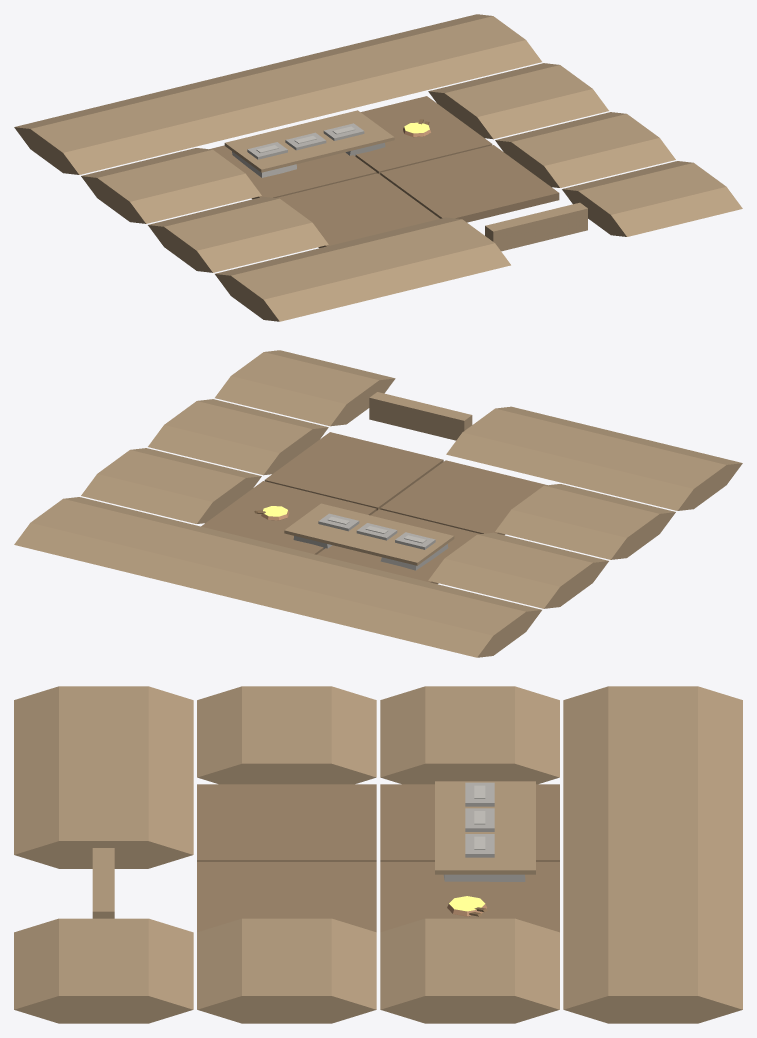
Rendered from building_casting_bench_foundation.glb.
The picture shows the model from 3 angles, top to bottom: view 1: azimuth 30°, elevation 25°; view 2: azimuth 150°, elevation 25°; view 3: azimuth 270°, elevation 25°; orthographic projection. The views are drawn at different scales.
Visible parts, largest first — view 1: building_casting_bench_foundation; view 2: building_casting_bench_foundation; view 3: building_casting_bench_foundation.
Part boxes in pixels (x1,y1,x2,y2): building_casting_bench_foundation: [14, 14, 742, 321]; building_casting_bench_foundation: [14, 350, 742, 657]; building_casting_bench_foundation: [14, 686, 742, 1023].
Size of the model in its own units: 4 by 0.1805 by 3.98.
